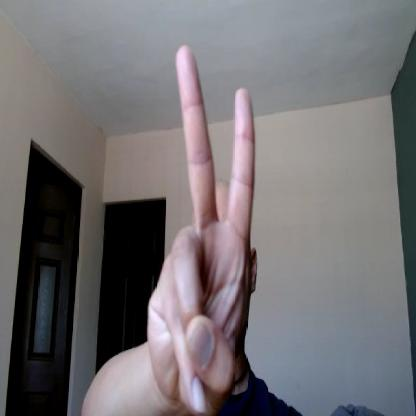V: (145, 46, 255, 416)
